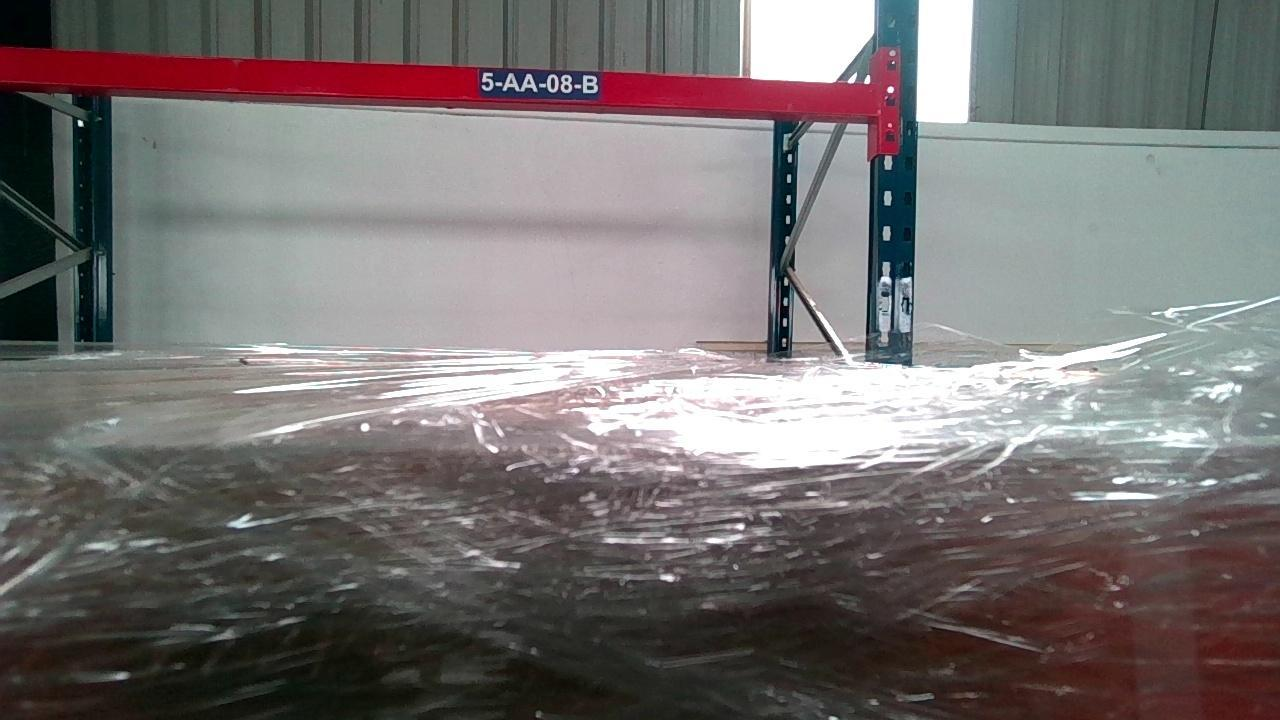h_rack: (0, 47, 882, 114)
